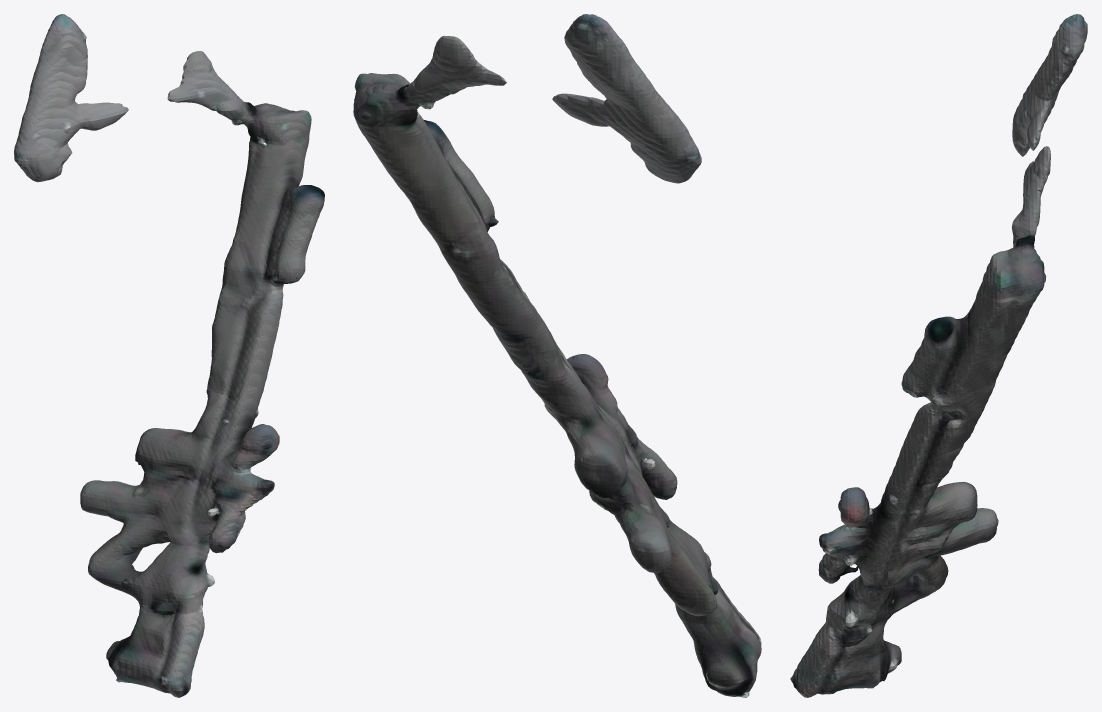
3 views of the same model, side by side, from view 1: azimuth 30°, elevation 25°; view 2: azimuth 150°, elevation 25°; view 3: azimuth 270°, elevation 25° (orthographic). The views are drawn at different scales.
Parts seen in each view (by area): view 1: world; view 2: world; view 3: world.
Part boxes in pixels (<box>): world: <box>14,14,324,697</box>; world: <box>353,14,761,697</box>; world: <box>790,14,1087,697</box>.
Bounding box in the file's own units: 0.4665 × 0.9384 × 0.3712.
